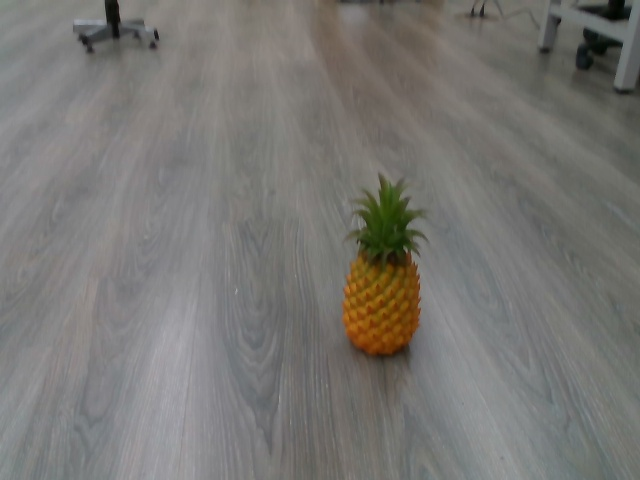pineapple: (338, 172, 435, 364)
